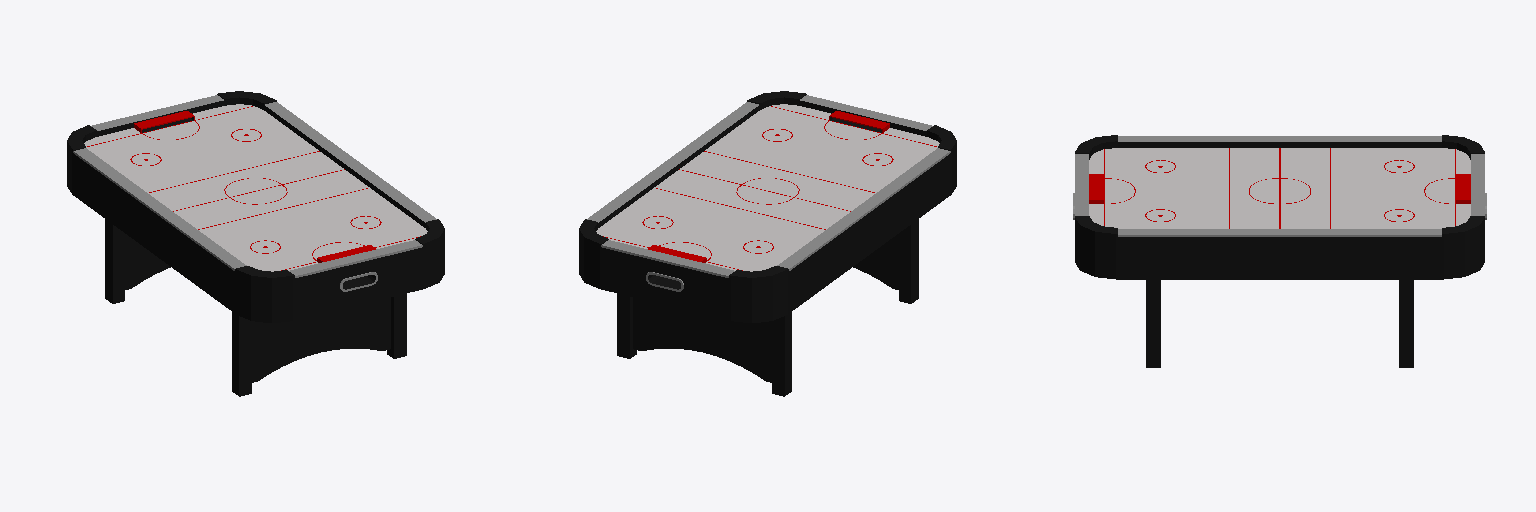
File: hockeytable2.obj
3 views of the same model, side by side, from view 1: azimuth 30°, elevation 25°; view 2: azimuth 150°, elevation 25°; view 3: azimuth 270°, elevation 25° (orthographic).
Visible parts, largest first — view 1: Mesh_group__Charcoa, Mesh.003_group__Snow_, Mesh.001_group__Gainsbo, Mesh.002_group__Red_; view 2: Mesh_group__Charcoa, Mesh.003_group__Snow_, Mesh.001_group__Gainsbo, Mesh.002_group__Red_; view 3: Mesh.003_group__Snow_, Mesh_group__Charcoa, Mesh.001_group__Gainsbo, Mesh.002_group__Red_.
Part boxes in pixels (left/top/right/bottom): Mesh_group__Charcoa: left=67, top=91, right=444, bottom=396; Mesh.003_group__Snow_: left=84, top=104, right=427, bottom=271; Mesh.001_group__Gainsbo: left=73, top=95, right=436, bottom=291; Mesh.002_group__Red_: left=87, top=106, right=420, bottom=270; Mesh_group__Charcoa: left=579, top=91, right=956, bottom=396; Mesh.003_group__Snow_: left=596, top=104, right=939, bottom=271; Mesh.001_group__Gainsbo: left=587, top=95, right=950, bottom=291; Mesh.002_group__Red_: left=603, top=106, right=936, bottom=270; Mesh.003_group__Snow_: left=1089, top=148, right=1470, bottom=228; Mesh_group__Charcoa: left=1075, top=135, right=1484, bottom=367; Mesh.001_group__Gainsbo: left=1073, top=136, right=1486, bottom=236; Mesh.002_group__Red_: left=1089, top=148, right=1470, bottom=228.
Bounding box in the file's own units: 4.68 × 3.14 × 8.24.